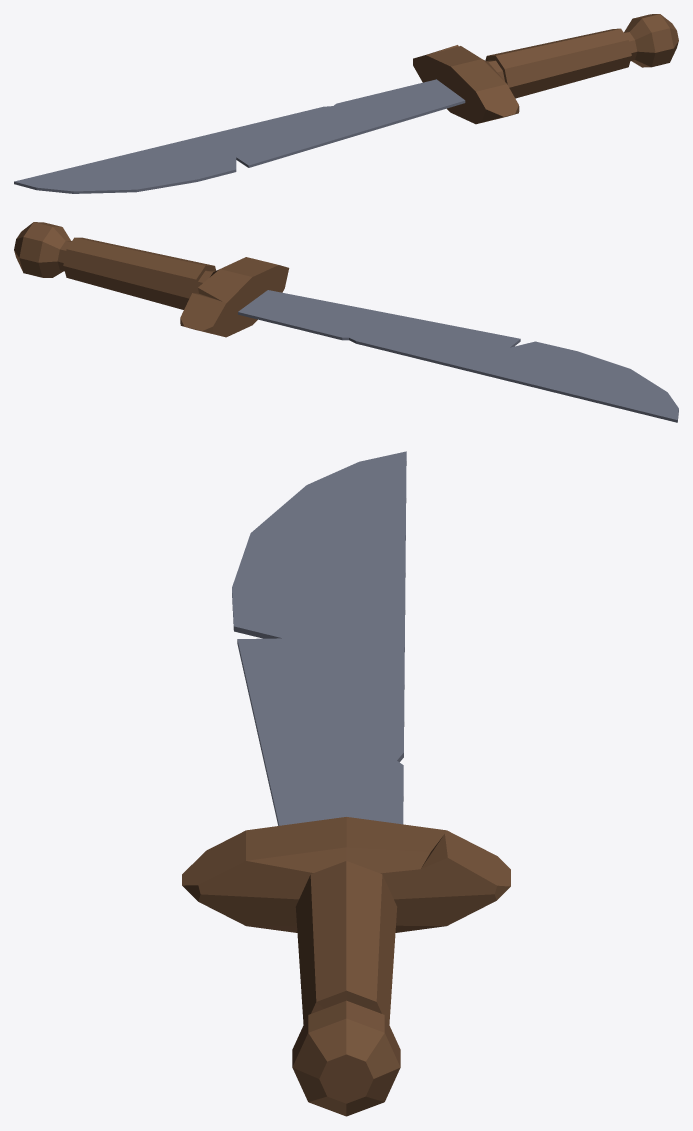
Rendered from Sword.fbx.
3 renders of one model, top to bottom at view 1: azimuth 30°, elevation 25°; view 2: azimuth 150°, elevation 25°; view 3: azimuth 270°, elevation 25°, orthographic. The views are drawn at different scales.
Parts seen in each view (by area): view 1: Sword; view 2: Sword; view 3: Sword.
Boxes of the visible parts, x1,y1,x2,y2 form: Sword: (14, 14, 678, 193); Sword: (14, 222, 678, 422); Sword: (182, 451, 510, 1116).
Size of the model in its own units: 264 by 19.23 by 58.44.
